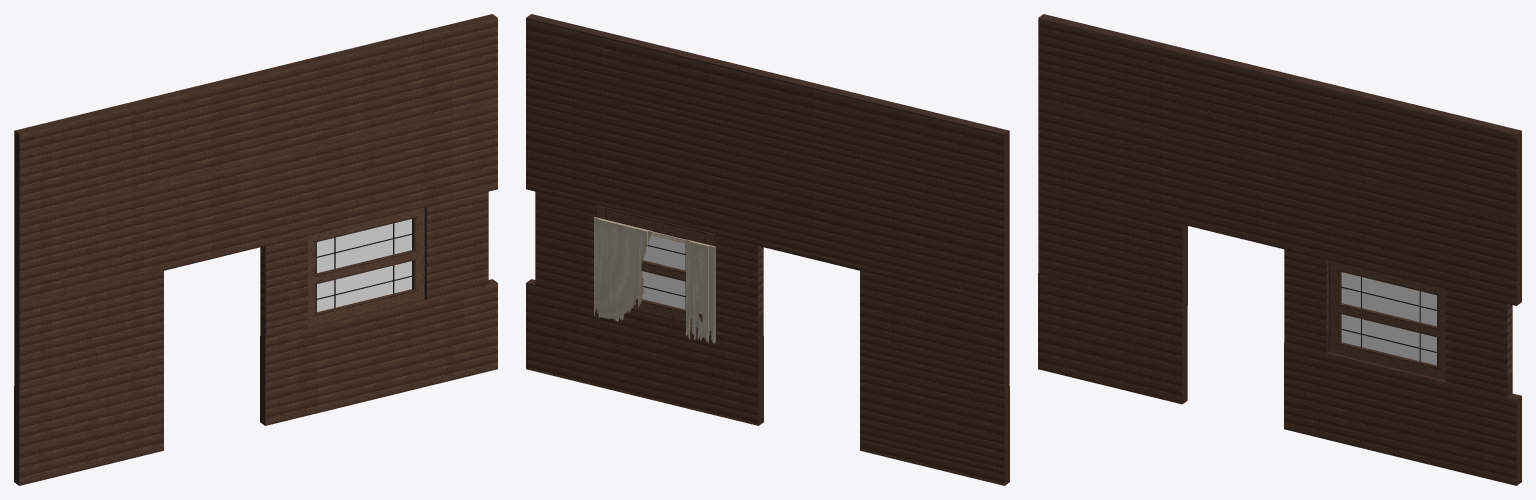
The model's file is wall_door.gltf.
3 views of the same model, side by side, from view 1: azimuth 30°, elevation 25°; view 2: azimuth 150°, elevation 25°; view 3: azimuth 330°, elevation 25° (orthographic).
Parts seen in each view (by area): view 1: cube (×9), glass, bottomFrame, middleFrame, leftFrame, topFrame, rightFrame; view 2: cube (×9), leftDrape2 (×2), glass, rightDrape2 (×2), topFrame, rightDrape (×2), bottomFrame, leftDrape, middleFrame; view 3: cube (×9), glass, bottomFrame, middleFrame, rightFrame, topFrame, leftFrame.
Boxes of the visible parts, x1,y1,x2,y2 form: cube (×9): (14,14,497,485); glass: (317,219,411,312); bottomFrame: (313,289,417,325); middleFrame: (313,250,417,284); leftFrame: (412,207,424,300); topFrame: (313,209,417,242); rightFrame: (308,234,316,326); cube (×9): (526,14,1009,485); leftDrape2 (×2): (598,219,647,321); glass: (636,235,700,313); rightDrape2 (×2): (689,241,708,343); topFrame: (603,207,708,243); rightDrape (×2): (686,239,715,343); bottomFrame: (631,298,702,324); leftDrape: (594,217,652,313); middleFrame: (641,260,685,281); cube (×9): (1038,14,1521,485); glass: (1341,272,1436,365); bottomFrame: (1336,342,1440,378); middleFrame: (1336,303,1440,338); rightFrame: (1328,260,1341,353); topFrame: (1336,262,1440,295); leftFrame: (1437,287,1445,380).
Size of the model in its own units: 25.89 by 18.16 by 0.728.
4 materials, 4 textured.
